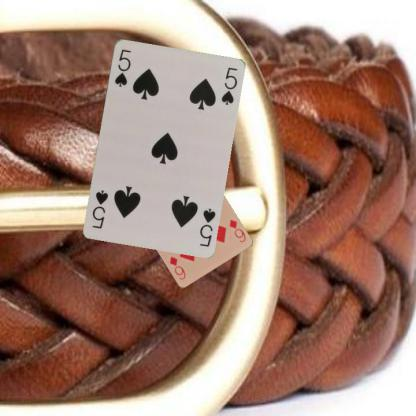5s: (196, 205, 216, 248), (112, 46, 132, 88)
6d: (226, 217, 247, 243)
